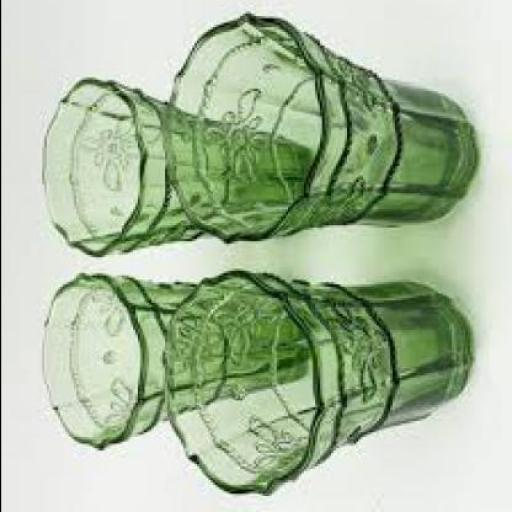glass: (158, 14, 478, 248), (159, 274, 466, 498), (39, 82, 307, 259), (39, 276, 307, 453)
